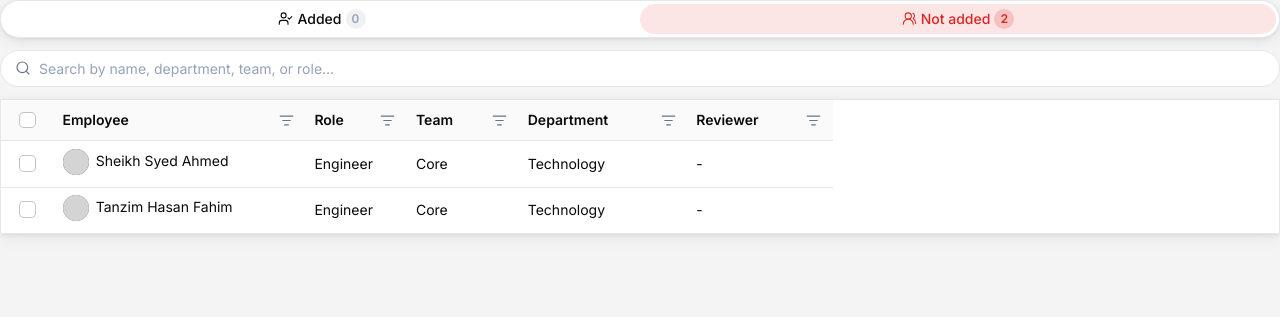
Test: GroupMembersEditor › selects all visible people from the header checkbox
This screenshot has width=1280, height=317.
Step 1. Click the checkbox named "Select all people" → (28, 120), box [19,112,36,128]
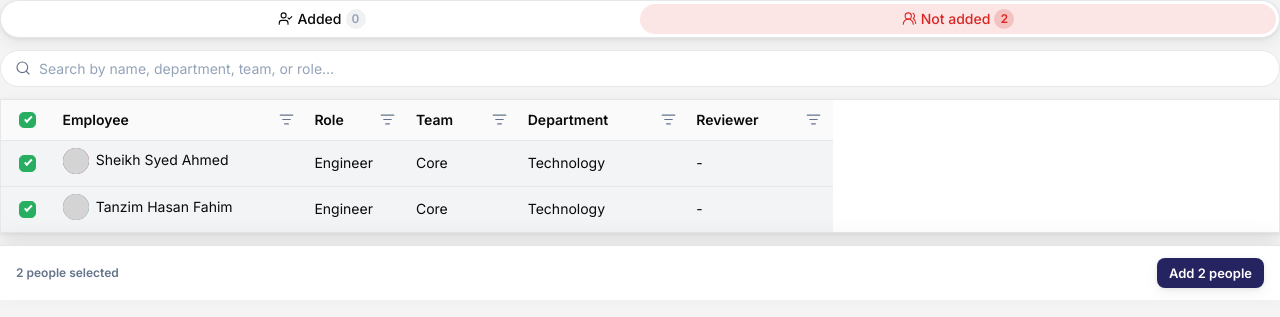
Result: the checkbox named "Clear all people" is checked at [19,112,36,128]
Result: the button "Add 2 people" is enabled at [1157,258,1264,288]
